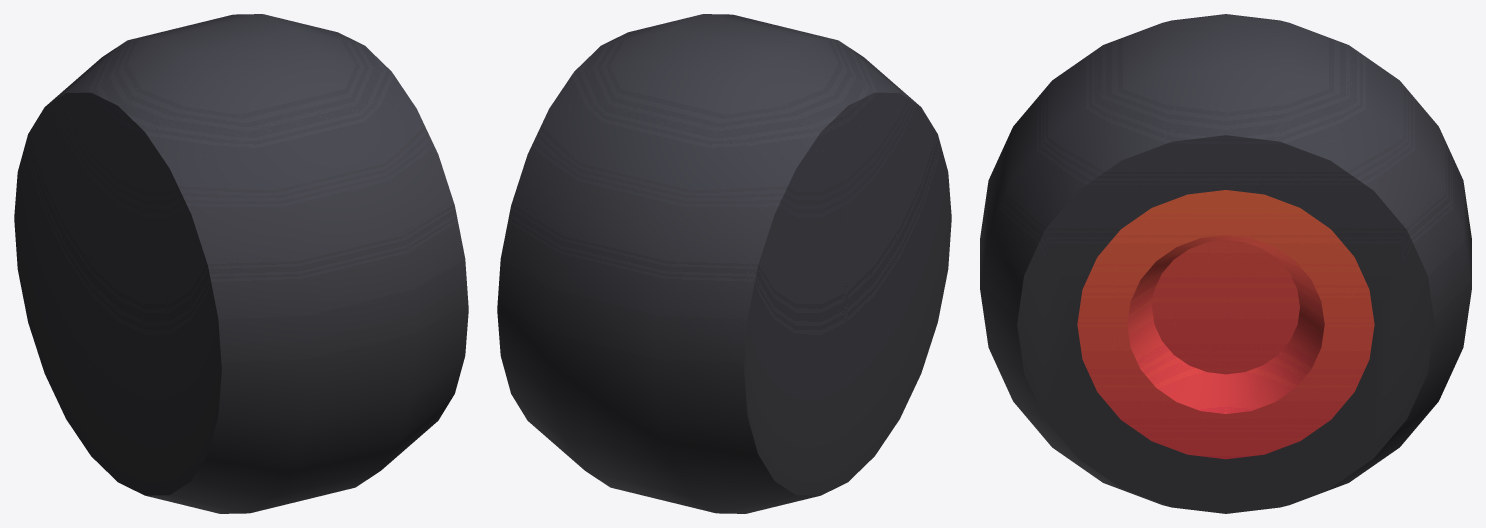
Rendered from RedWheel.glb.
The picture shows the model from 3 angles, left to right: view 1: azimuth 30°, elevation 25°; view 2: azimuth 150°, elevation 25°; view 3: azimuth 270°, elevation 25°; orthographic projection.
Visible parts, largest first — view 1: wheel-front-left; view 2: wheel-front-left; view 3: wheel-front-left.
Boxes of the visible parts, <box> form: wheel-front-left: <box>14,14,468,513</box>; wheel-front-left: <box>497,14,951,513</box>; wheel-front-left: <box>980,14,1471,513</box>.
Size of the model in its own units: 0.35 by 0.6 by 0.6.
Materials: 1 (1 with a texture image).
